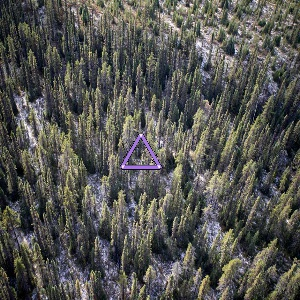triangle: (119, 131, 164, 172)
